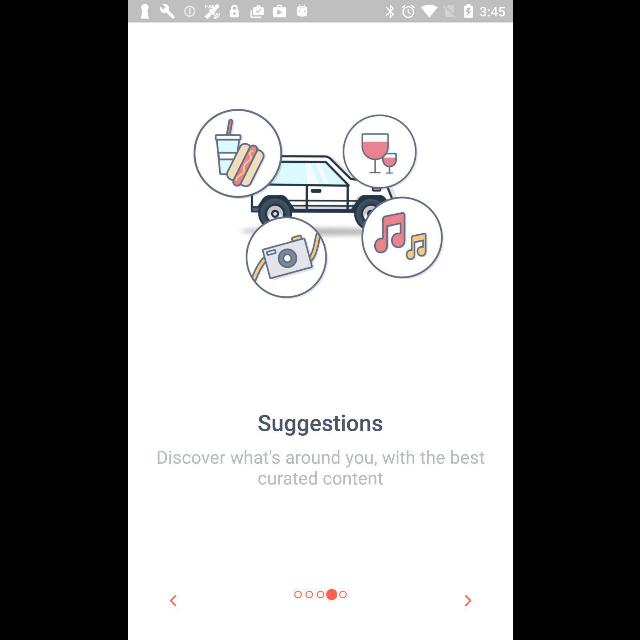icon: (169, 595, 177, 607), (464, 595, 472, 607)
image: (192, 108, 444, 300)
pageindicator: (293, 589, 347, 601)
text: (157, 450, 485, 486), (258, 415, 382, 437)
uppertaskbar: (128, 1, 512, 23)
